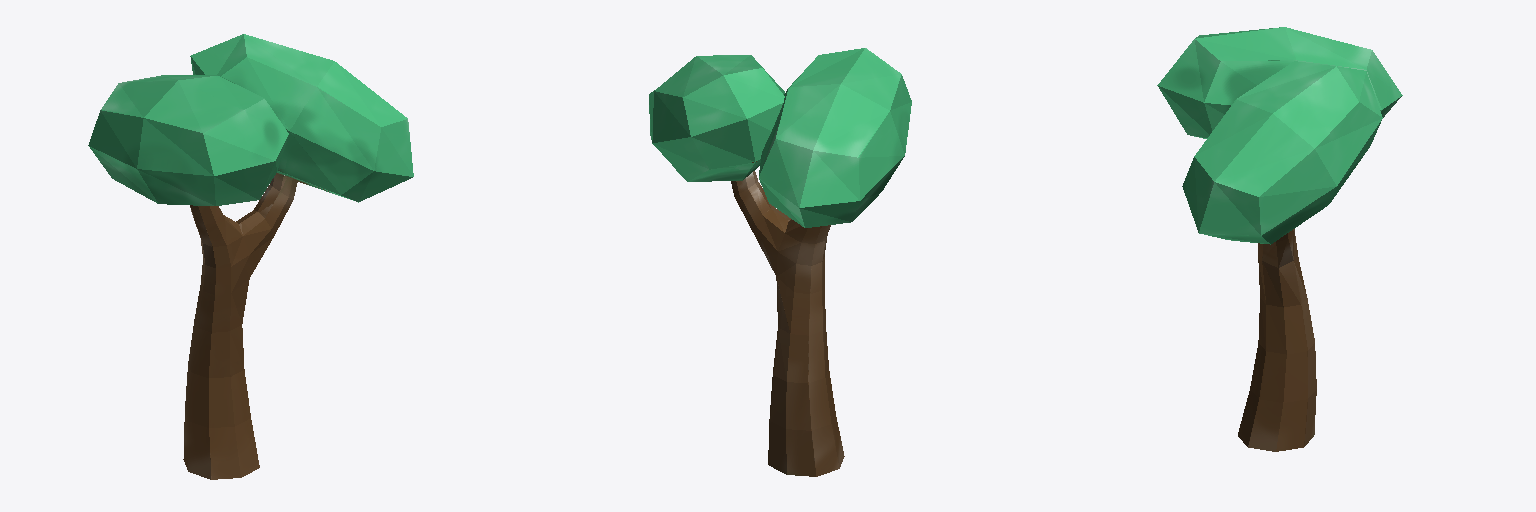
The picture shows the model from 3 angles: view 1: azimuth 30°, elevation 25°; view 2: azimuth 150°, elevation 25°; view 3: azimuth 270°, elevation 25°; orthographic projection.
Parts seen in each view (by area): view 1: Cube_Cube.001; view 2: Cube_Cube.001; view 3: Cube_Cube.001.
Part boxes in pixels (left/top/right/bottom): Cube_Cube.001: left=88, top=34, right=413, bottom=479; Cube_Cube.001: left=649, top=48, right=911, bottom=476; Cube_Cube.001: left=1157, top=27, right=1402, bottom=451.
Size of the model in its own units: 7.14 by 10.38 by 5.84.
Materials: 1 (1 with a texture image).